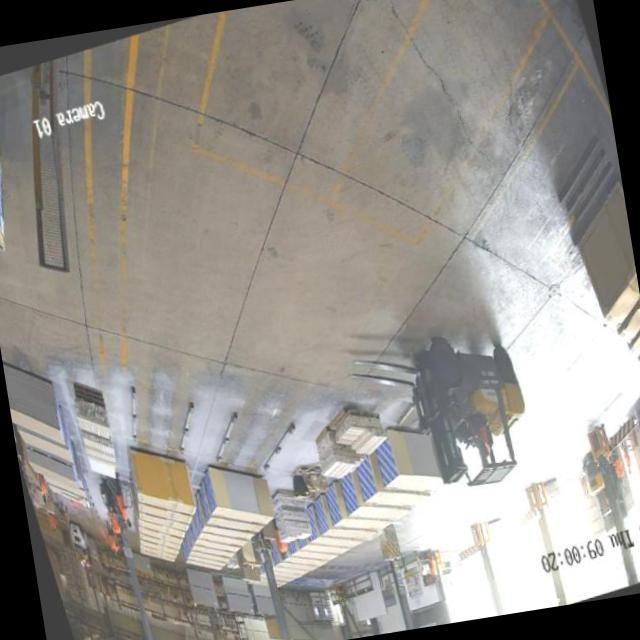driver: (464, 416, 499, 468)
forklift: (392, 314, 558, 510), (580, 455, 616, 522), (66, 520, 96, 576)
person: (110, 472, 136, 531), (611, 451, 628, 484), (426, 548, 441, 582), (273, 526, 288, 559), (108, 512, 123, 542), (620, 444, 634, 474)
